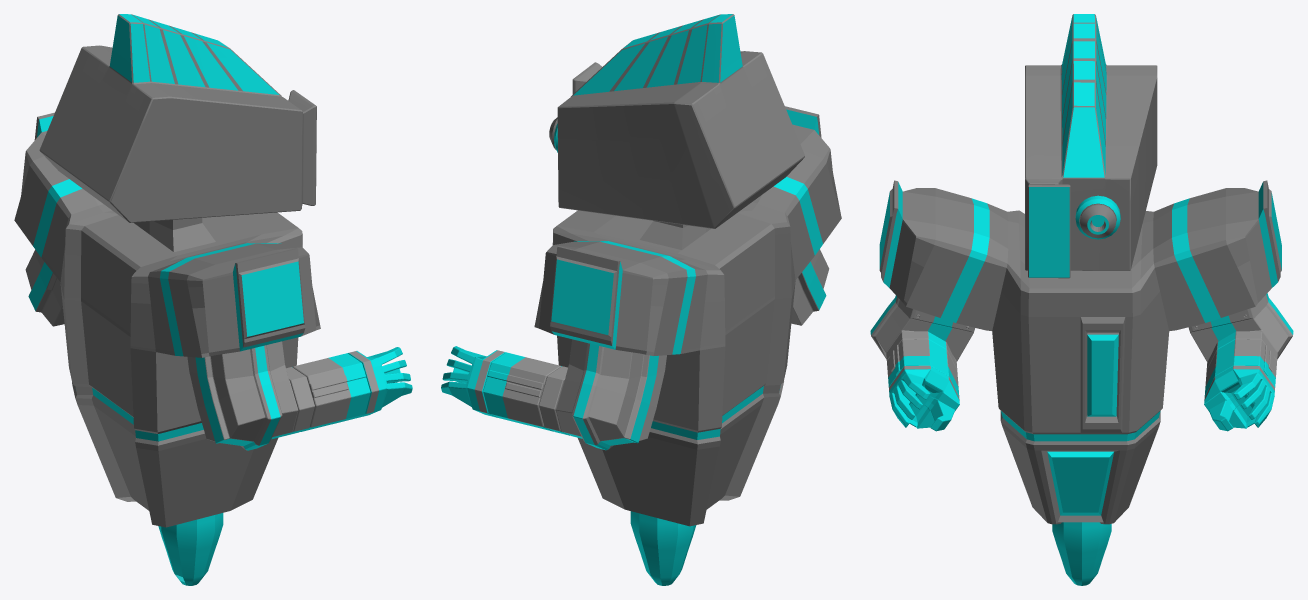
The model's file is Low_Poly_Robot.fbx.
3 views of the same model, side by side, from view 1: azimuth 30°, elevation 25°; view 2: azimuth 150°, elevation 25°; view 3: azimuth 270°, elevation 25° (orthographic). The views are drawn at different scales.
Visible parts, largest first — view 1: polySurface20; view 2: polySurface20; view 3: polySurface20.
Part boxes in pixels (left/top/right/bottom): polySurface20: left=14, top=14, right=412, bottom=585; polySurface20: left=441, top=14, right=841, bottom=585; polySurface20: left=870, top=14, right=1293, bottom=585.
Bounding box in the file's own units: 1.97 × 4.49 × 3.19.
